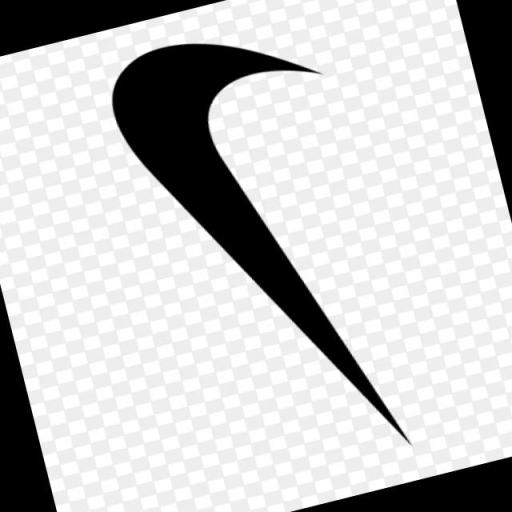Nike: (78, 5, 425, 512)
